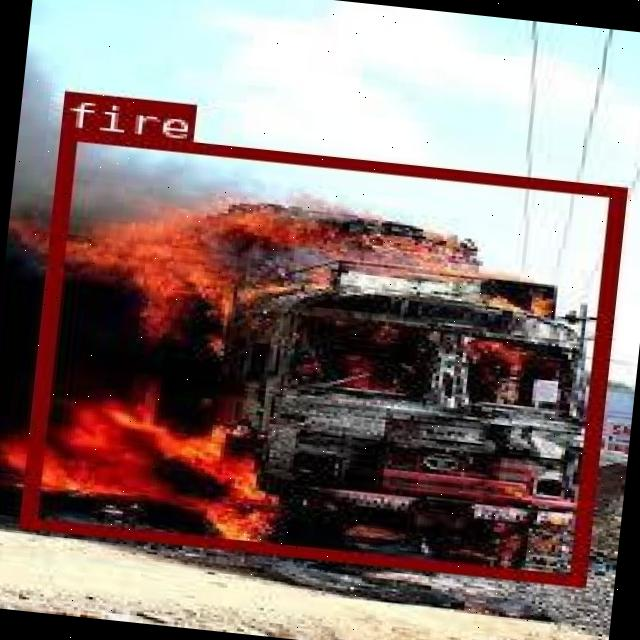fire: (19, 126, 622, 584)
